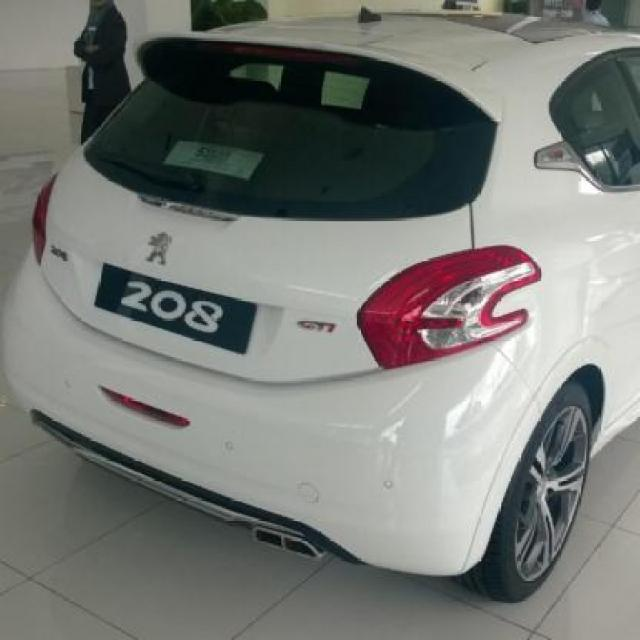License-Plates: (94, 262, 248, 359)
